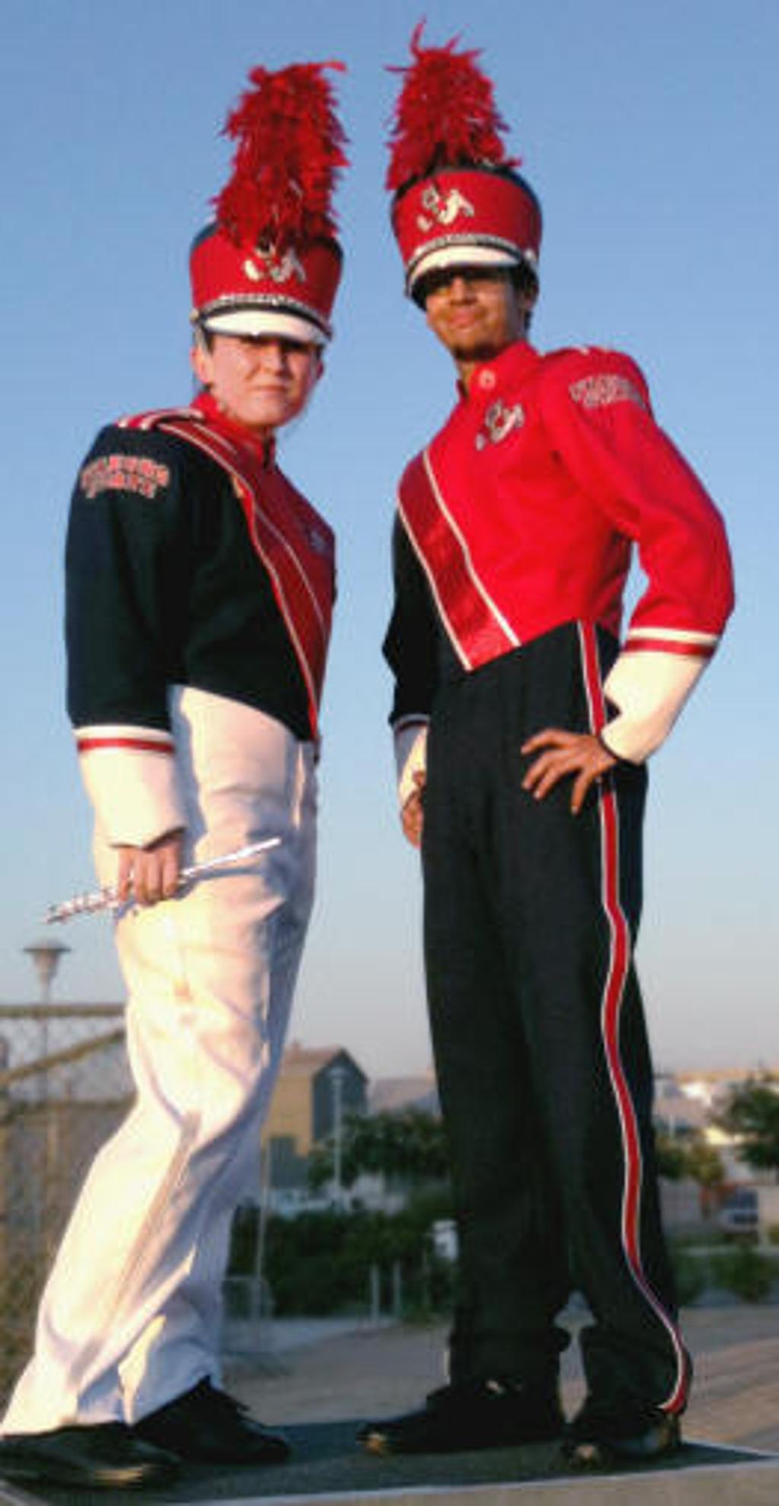human_face: (217, 297, 317, 420), (417, 244, 523, 353)
